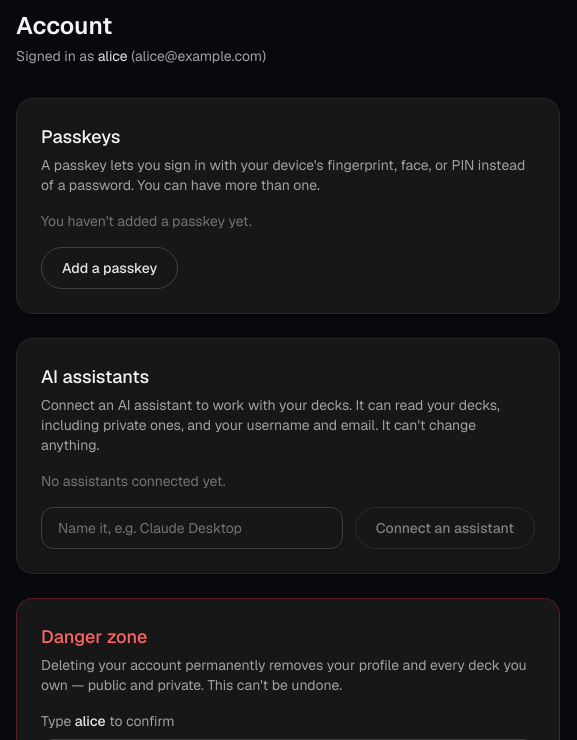
Test case: account page: adding a passkey › runs options, then the device prompt, then verify, and shows the new passkey
Expected: the text "You haven't added a passkey yet." is shown, top-left (41, 212), bottom-right (252, 230)
Click the button "Add a passkey" at (110, 268), box top-left (41, 247), bottom-right (178, 289)
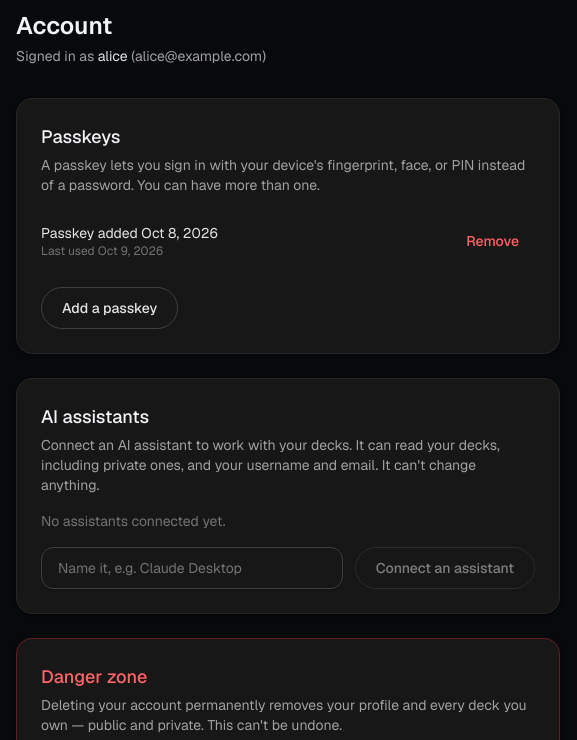
Expected: the number of list items is 1, top-left (41, 211), bottom-right (535, 271)
